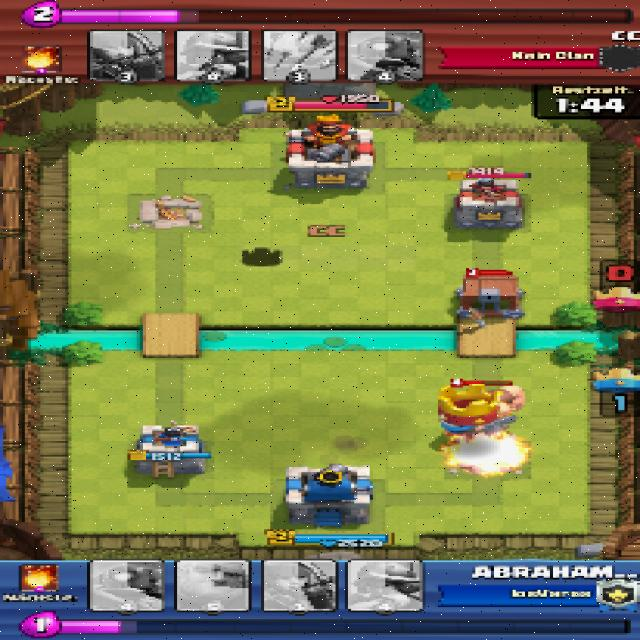Enemy-Giant: (453, 383, 529, 429)
Player-GoblinCage: (449, 272, 528, 321)
Player-Knight: (432, 416, 492, 445)
